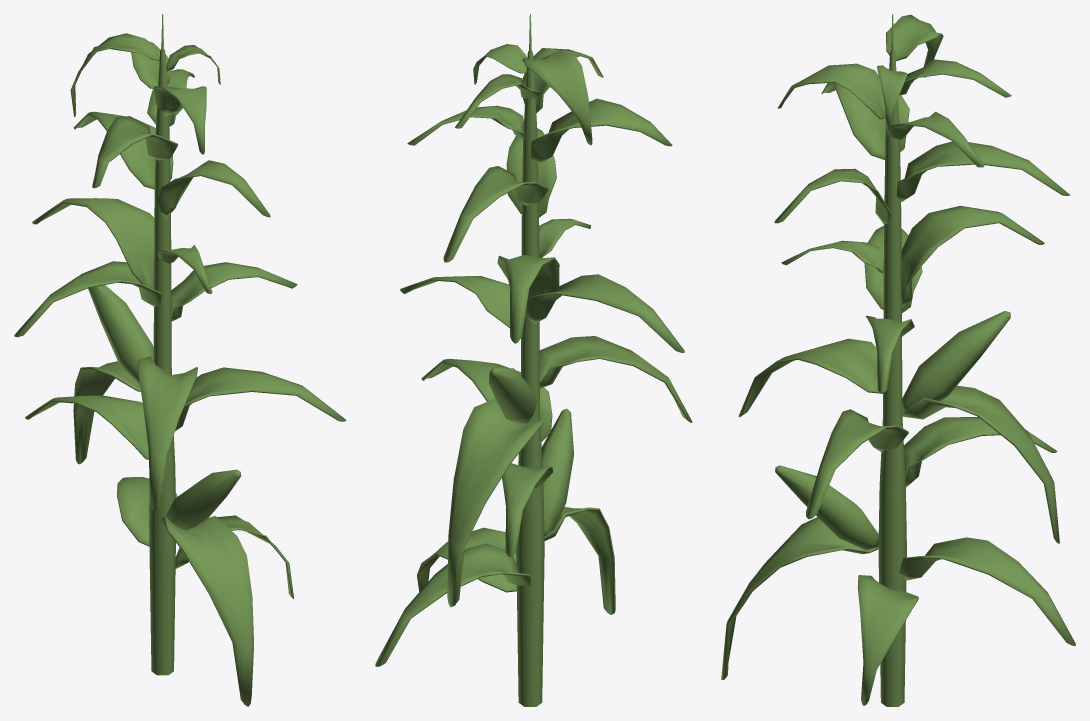
File: Maizal.fbx
The picture shows the model from 3 angles, left to right: view 1: azimuth 30°, elevation 25°; view 2: azimuth 150°, elevation 25°; view 3: azimuth 270°, elevation 25°; orthographic projection. The views are drawn at different scales.
Visible parts, largest first — view 1: maizal; view 2: maizal; view 3: maizal.
Part boxes in pixels (bbox=[...]): maizal: bbox=[14, 14, 346, 706]; maizal: bbox=[375, 14, 692, 706]; maizal: bbox=[721, 14, 1075, 706].
Bounding box in the file's own units: 78.59 × 169 × 79.14.
